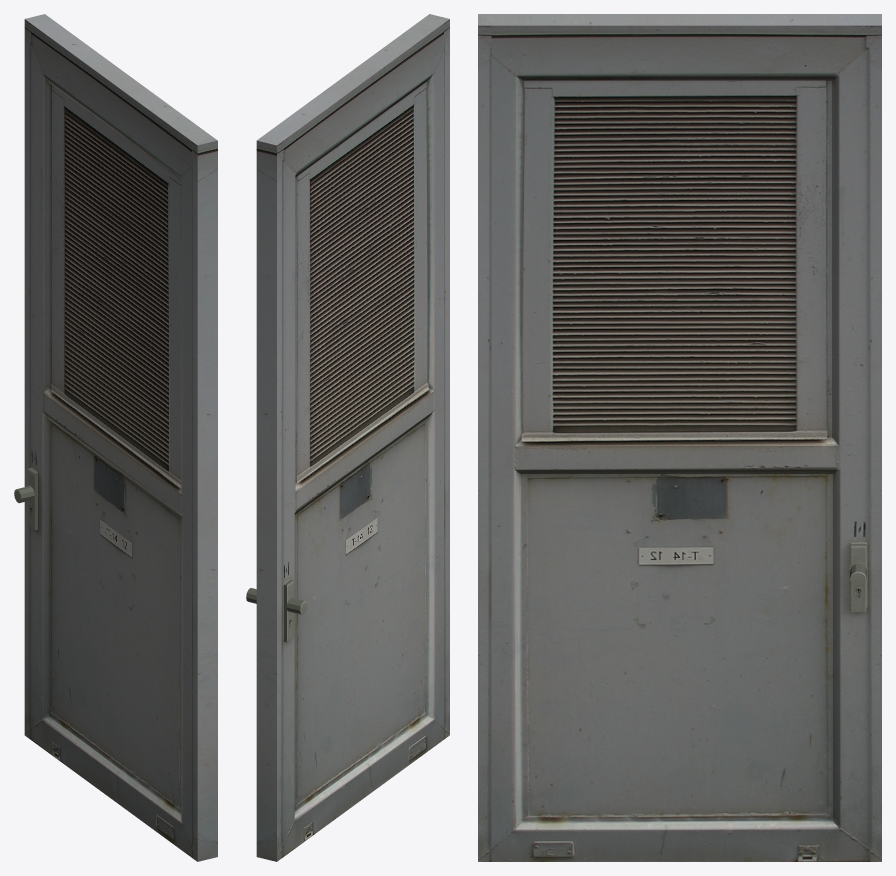
File: door.fbx
The picture shows the model from 3 angles, left to right: view 1: azimuth 30°, elevation 25°; view 2: azimuth 150°, elevation 25°; view 3: azimuth 270°, elevation 25°; orthographic projection. The views are drawn at different scales.
Parts seen in each view (by area): view 1: door_Layer1; view 2: door_Layer1; view 3: door_Layer1.
Boxes of the visible parts, x1,y1,x2,y2 form: door_Layer1: (14, 14, 217, 861); door_Layer1: (246, 14, 449, 861); door_Layer1: (478, 14, 881, 861).
Bounding box in the file's own units: 19.77 × 250 × 109.
Materials: 1 (1 with a texture image).
